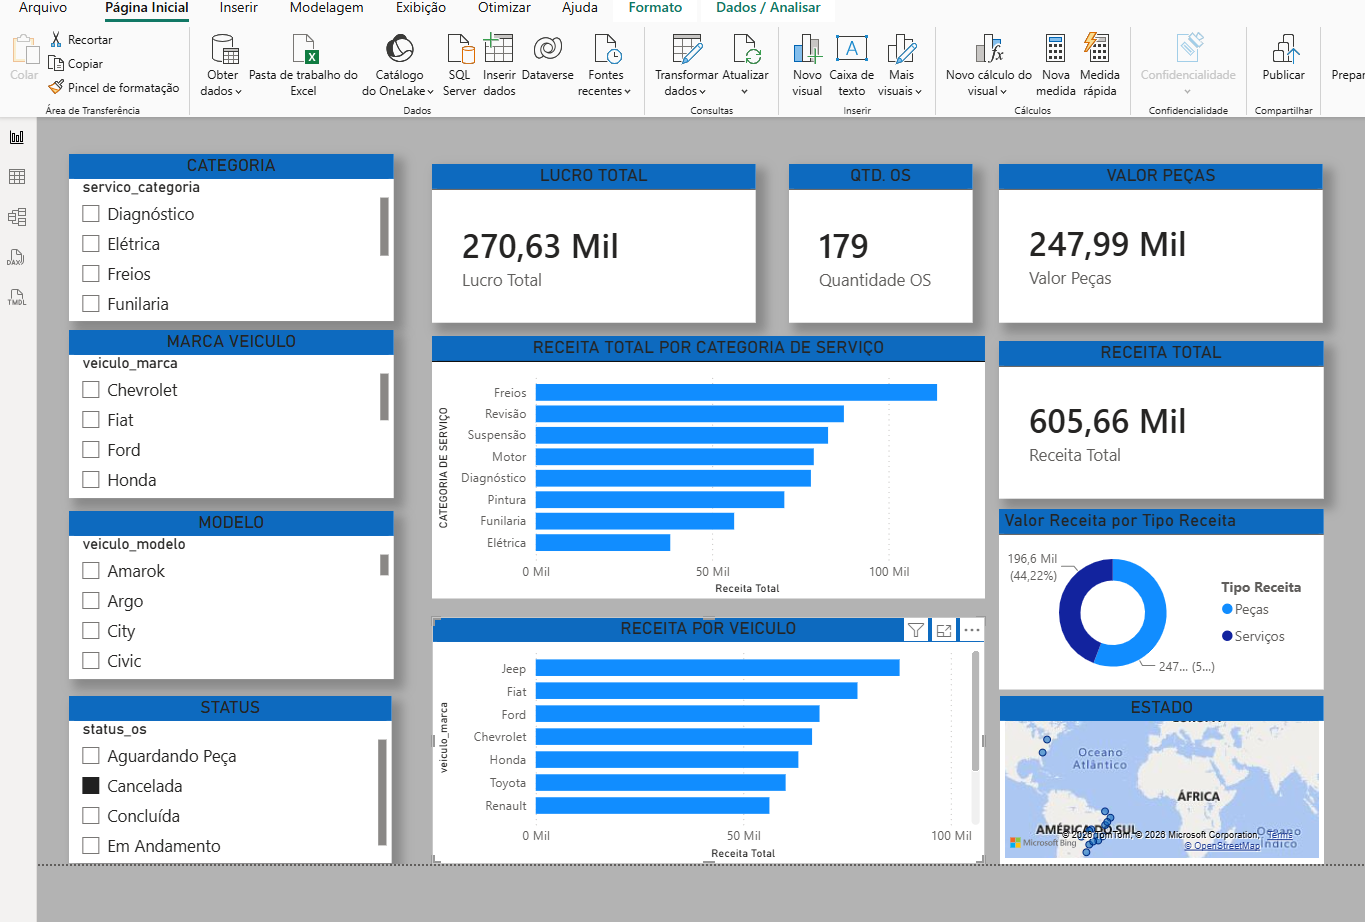

What the dashboard file says about the page in this screenshot:
{"tool":"powerbi","page":{"name":"Dash Principal","canvas":[1280,720],"ordinal":0},"visuals":[{"type":"cardVisual","title":"RECEITA TOTAL","fields":{"Data":["BASE_COMPLETA.Receita Total"]},"box":[926.9,215.9,313.2,151.7],"z":0},{"type":"cardVisual","title":"LUCRO TOTAL","fields":{"Data":["BASE_COMPLETA.Lucro Total"]},"box":[380.7,45.2,312.4,152.5],"z":1000},{"type":"cardVisual","title":"VALOR PEÇAS","fields":{"Data":["BASE_COMPLETA.Valor Peças"]},"box":[927.7,45.2,312.4,152.5],"z":2000},{"type":"cardVisual","title":"QTD. OS","fields":{"Data":["BASE_COMPLETA.Quantidade OS"]},"box":[724.7,45.2,176.7,152.5],"z":3000},{"type":"slicer","title":"CATEGORIA","fields":{"Values":["BASE_COMPLETA.servico_categoria"]},"box":[31.1,36,313.2,161.5],"z":4000},{"type":"slicer","title":"MARCA VEICULO","fields":{"Values":["BASE_COMPLETA.veiculo_marca"]},"box":[31.1,205.2,313.2,162.4],"z":5000},{"type":"slicer","title":"MODELO","fields":{"Values":["BASE_COMPLETA.veiculo_modelo"]},"box":[31.1,379.3,313.2,162.4],"z":6000},{"type":"map","title":"ESTADO","fields":{"Category":["BASE_COMPLETA.cliente_estado"]},"box":[927.9,558.3,312.2,161.5],"z":7000},{"type":"slicer","title":"STATUS","fields":{"Values":["BASE_COMPLETA.status_os"]},"box":[31.1,558.3,311.2,161.5],"z":8000},{"type":"clusteredBarChart","title":"RECEITA TOTAL POR CATEGORIA DE SERVIÇO","fields":{"Category":["BASE_COMPLETA.servico_categoria"],"Y":["BASE_COMPLETA.Receita Total"]},"box":[380.3,211.1,533,252.9],"z":9000},{"type":"donutChart","fields":{"Y":["TipoReceita.Valor Receita"],"Category":["TipoReceita.Tipo Receita"]},"box":[926.9,377.4,313.2,174.1],"z":10000},{"type":"clusteredBarChart","title":"RECEITA POR VEICULO","fields":{"Category":["BASE_COMPLETA.veiculo_marca"],"Y":["BASE_COMPLETA.Receita Total"]},"box":[380.3,481.5,533,238.3],"z":11000}]}

Visuals, with their boxes on the page's 1280x720 design canvas (x1, y1, x2, y2). These are canvas units, not pixel positions in the 1365x922 screenshot, which may show the page scaled, cropped or inside an application window:
"RECEITA TOTAL" cardVisual: bbox(927, 216, 1240, 368)
"LUCRO TOTAL" cardVisual: bbox(381, 45, 693, 198)
"VALOR PEÇAS" cardVisual: bbox(928, 45, 1240, 198)
"QTD. OS" cardVisual: bbox(725, 45, 901, 198)
"CATEGORIA" slicer: bbox(31, 36, 344, 198)
"MARCA VEICULO" slicer: bbox(31, 205, 344, 368)
"MODELO" slicer: bbox(31, 379, 344, 542)
"ESTADO" map: bbox(928, 558, 1240, 720)
"STATUS" slicer: bbox(31, 558, 342, 720)
"RECEITA TOTAL POR CATEGORIA DE SERVIÇO" clusteredBarChart: bbox(380, 211, 913, 464)
donutChart - TipoReceita.Valor Receita x TipoReceita.Tipo Receita: bbox(927, 377, 1240, 552)
"RECEITA POR VEICULO" clusteredBarChart: bbox(380, 482, 913, 720)
